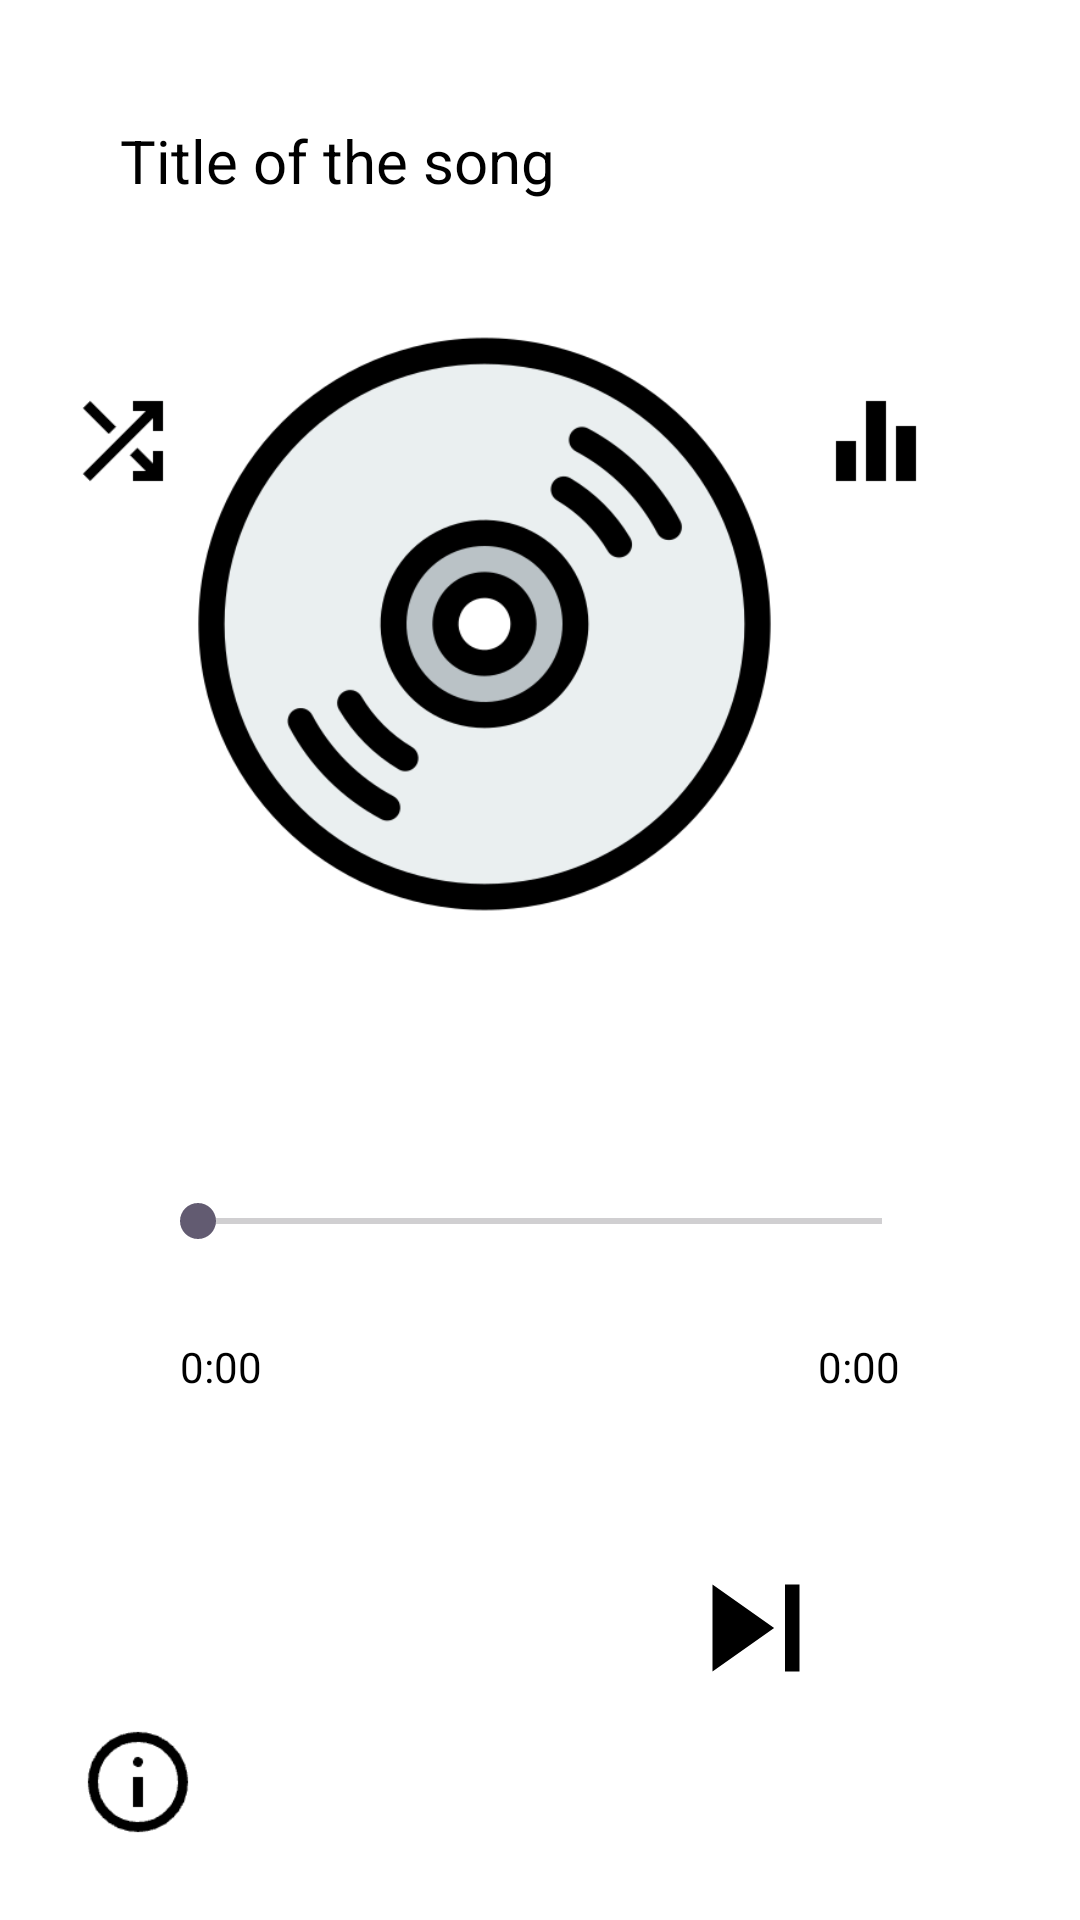

Where icons sit on this 1080px×1920px app screen, as detection(x1, y1, x2, y2):
equalizer: detection(835, 400, 917, 482)
Info Icon: detection(87, 1731, 189, 1833)
shuffle: detection(83, 400, 164, 482)
skip next: detection(712, 1584, 800, 1672)
